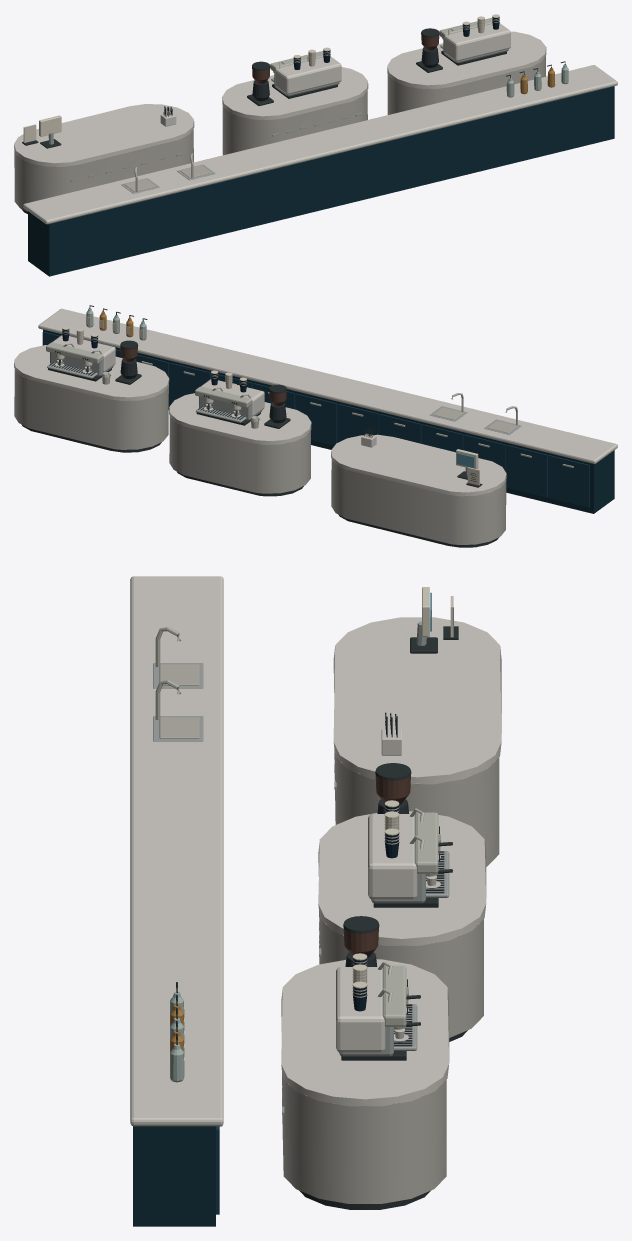
The model's file is bar.glb.
3 renders of one model, top to bottom at view 1: azimuth 30°, elevation 25°; view 2: azimuth 150°, elevation 25°; view 3: azimuth 270°, elevation 25°, orthographic. The views are drawn at different scales.
Visible parts, largest first — view 1: HalffBar; view 2: HalffBar; view 3: HalffBar.
Part boxes in pixels (x1,y1,x2,y2): HalffBar: (14, 14, 617, 276); HalffBar: (14, 305, 617, 547); HalffBar: (130, 576, 501, 1226).
Size of the model in its own units: 10.06 by 1.63 by 2.9.
